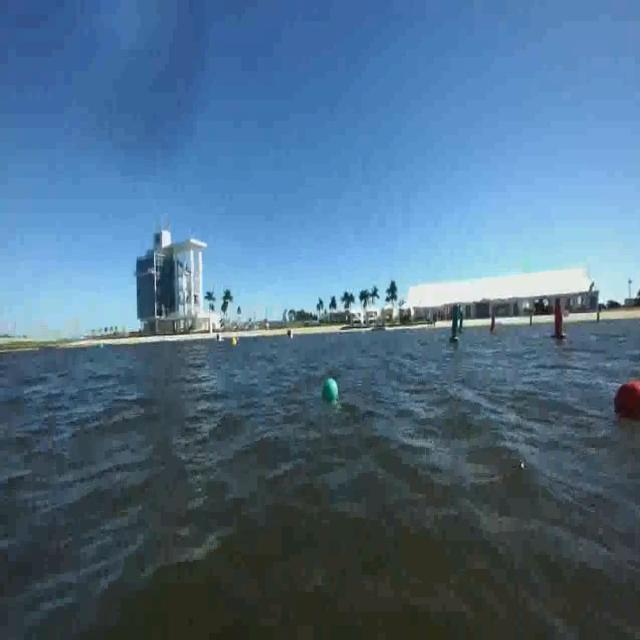green-buoy: (325, 377, 340, 401)
green-column-buoy: (449, 302, 459, 344)
red-buoy: (616, 380, 640, 424)
red-column-buoy: (552, 300, 568, 340)
yellow-buoy: (233, 337, 239, 348)
